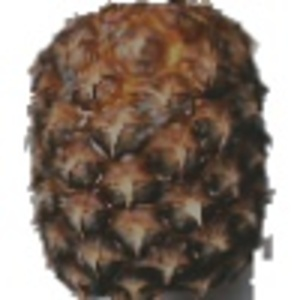abacaxi: (20, 2, 281, 298)
